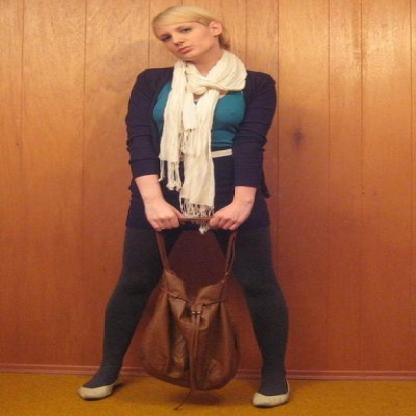bag: (139, 270, 236, 389)
jacket: (124, 67, 276, 203)
pants: (94, 203, 288, 395)
shirt: (153, 82, 244, 158)
shoe: (79, 379, 122, 400)
shorts: (126, 155, 239, 222)
